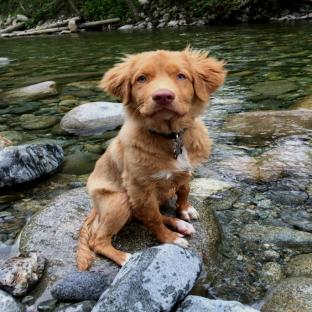Animal: (77, 48, 227, 269)
